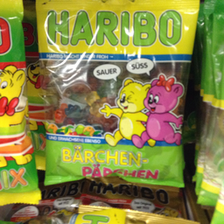candy: (36, 1, 201, 195)
